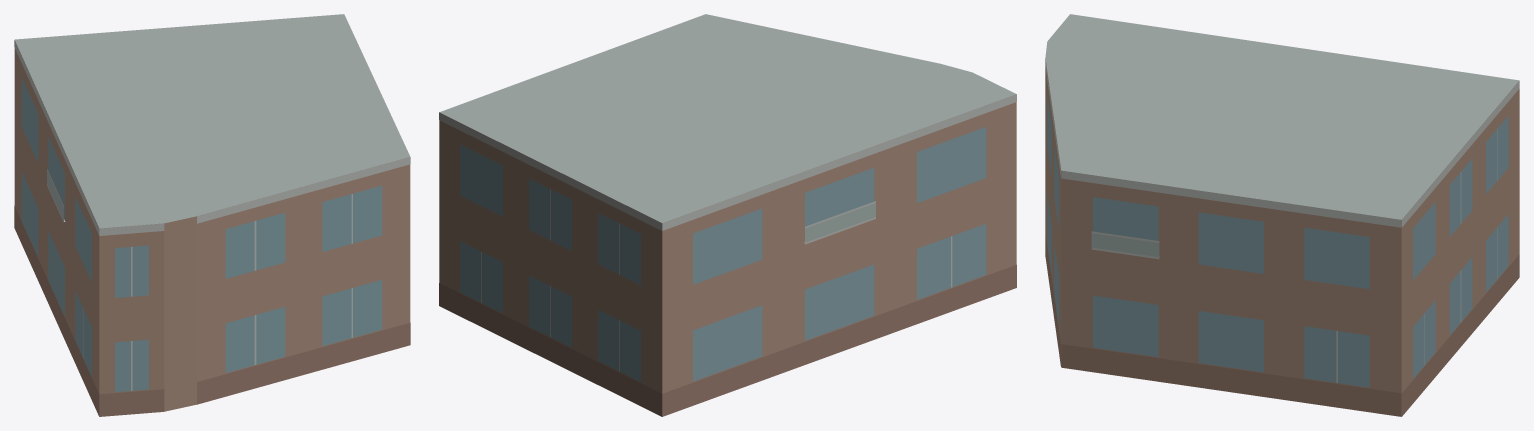
File: survey-upis-32527424.glb
The picture shows the model from 3 angles, left to right: view 1: azimuth 30°, elevation 25°; view 2: azimuth 150°, elevation 25°; view 3: azimuth 270°, elevation 25°; orthographic projection. The views are drawn at different scales.
Visible parts, largest first — view 1: survey-upis-32527424.tmp; view 2: survey-upis-32527424.tmp; view 3: survey-upis-32527424.tmp.
Part boxes in pixels (bbox=[...]): survey-upis-32527424.tmp: bbox=[14, 14, 410, 416]; survey-upis-32527424.tmp: bbox=[439, 14, 1016, 416]; survey-upis-32527424.tmp: bbox=[1045, 14, 1519, 416].
Size of the model in its own units: 13.68 by 6.1 by 13.32.
